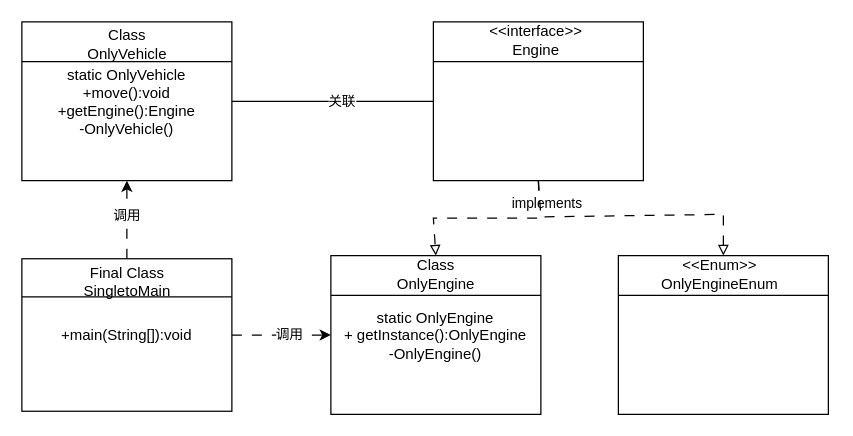
Image size: 853x436. Some labels were removed from this diagram. Each missing label, with the box of its shape:
(枚举单例): (617, 254, 828, 414)
空接口: (432, 21, 643, 181)
